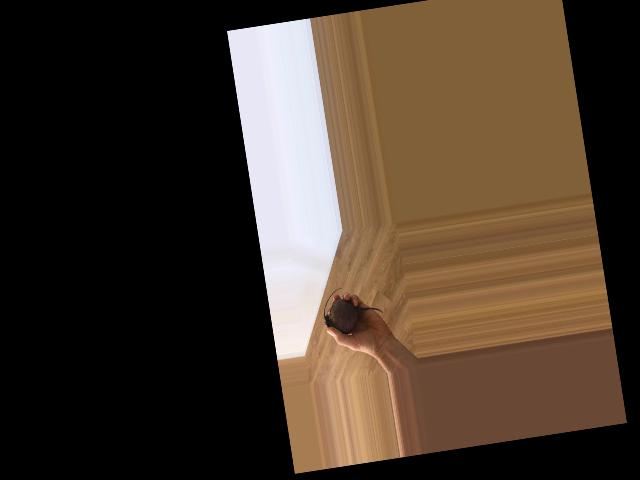beet: (319, 281, 384, 336)
